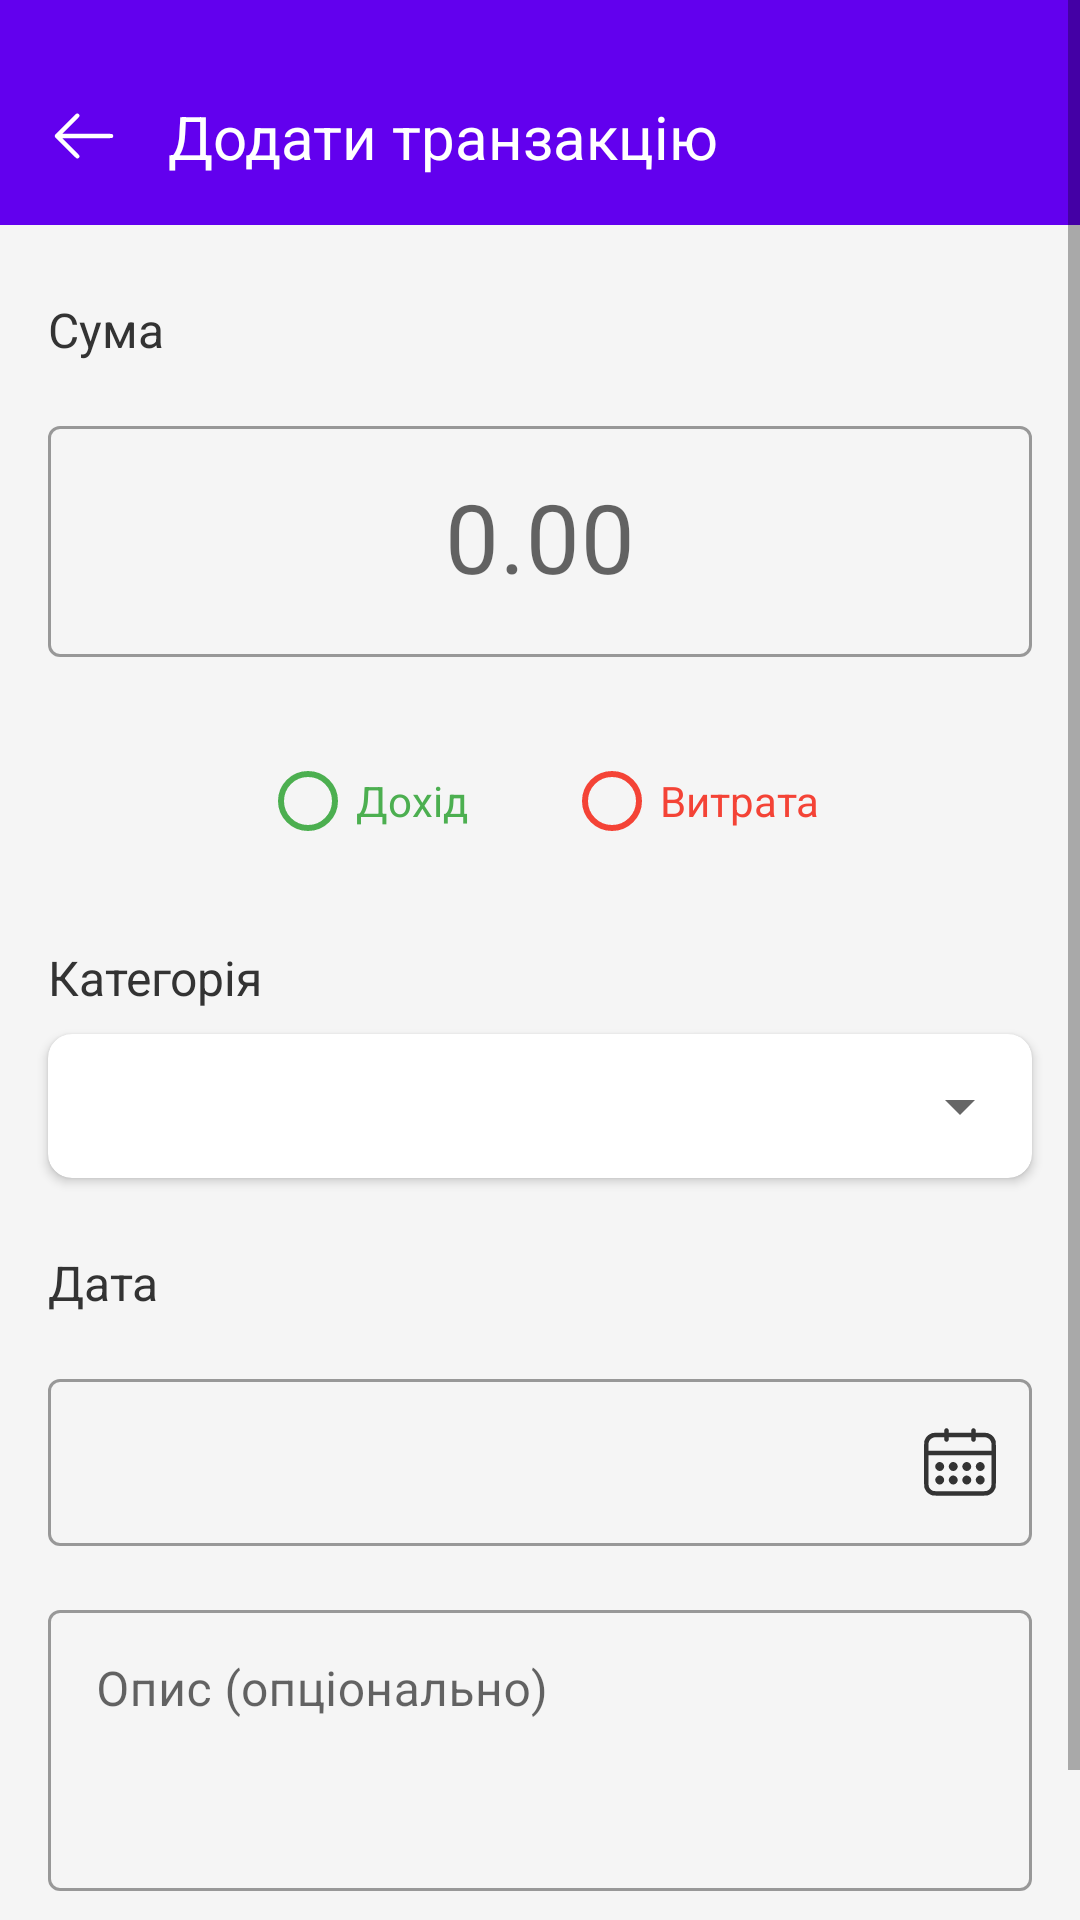

Icons on this 1080px x 1920px Android screen, each with the point to tap as point (x, y):
back: point (84, 136)
